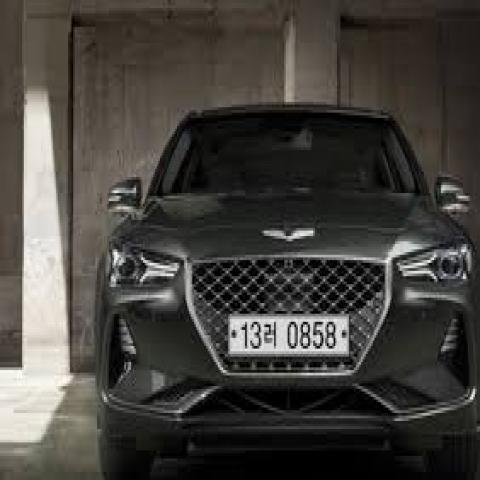LP: (224, 306, 352, 365)
